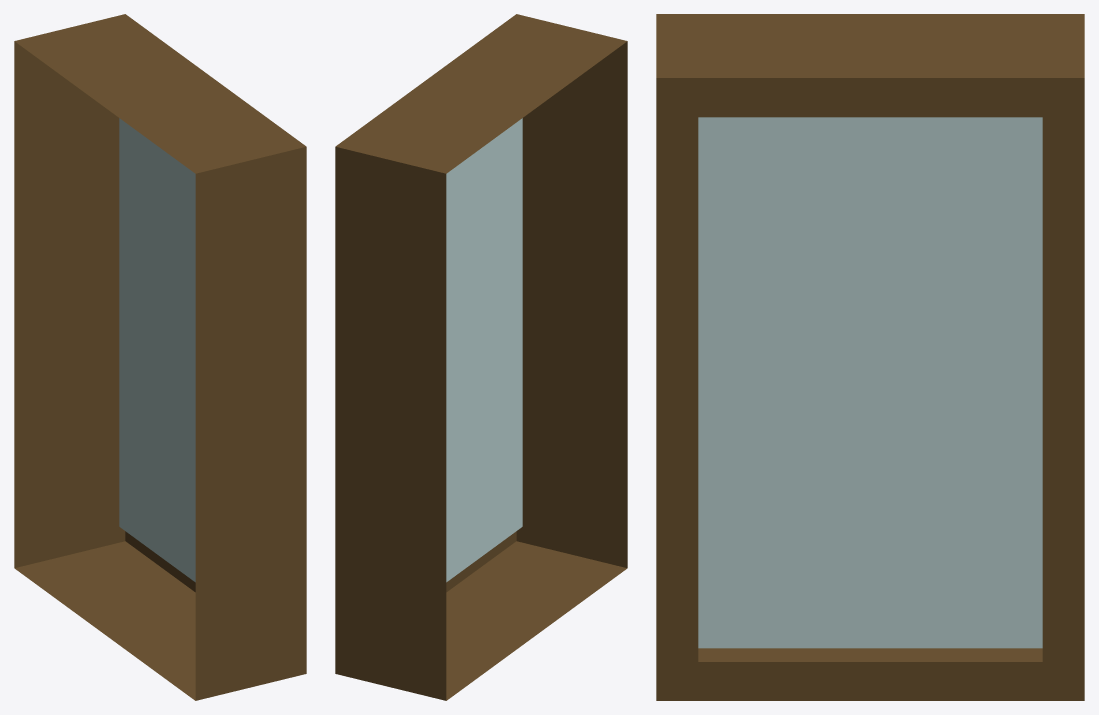
File: window_2_2.fbx
3 views of the same model, side by side, from view 1: azimuth 30°, elevation 25°; view 2: azimuth 150°, elevation 25°; view 3: azimuth 270°, elevation 25° (orthographic). The views are drawn at different scales.
Visible parts, largest first — view 1: window_2_2; view 2: window_2_2; view 3: window_2_2.
Boxes of the visible parts, <box> form: window_2_2: <box>14,14,306,700</box>; window_2_2: <box>335,14,627,700</box>; window_2_2: <box>656,14,1084,700</box>.
Size of the model in its own units: 49.39 by 224 by 139.
